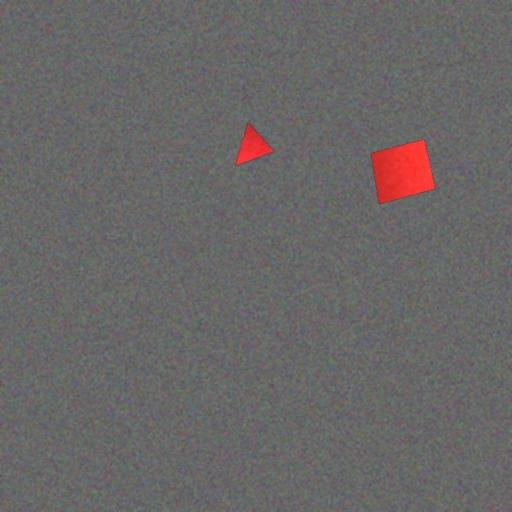RED_SQUARE: (370, 139, 437, 205)
